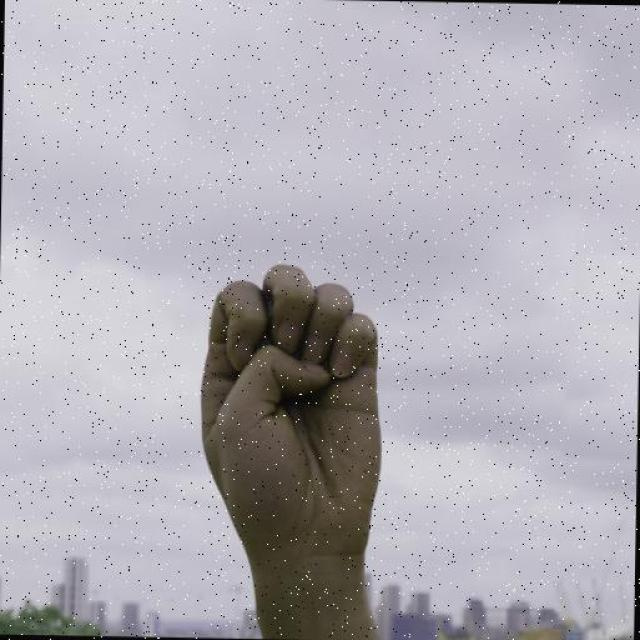E: (192, 258, 391, 568)
